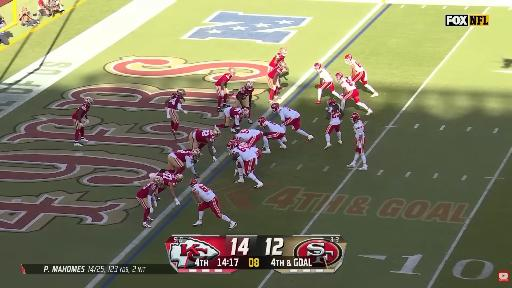Helmet: (153, 176, 164, 188), (227, 140, 237, 150), (271, 102, 280, 113), (212, 128, 221, 138), (350, 113, 359, 123), (191, 149, 200, 159), (257, 117, 267, 126), (335, 72, 343, 82), (84, 97, 93, 105), (278, 61, 287, 69), (241, 108, 249, 117), (327, 98, 336, 106), (245, 81, 253, 89), (175, 174, 183, 182), (345, 54, 352, 63), (280, 47, 287, 56), (228, 67, 235, 75), (314, 63, 321, 71), (190, 179, 198, 186), (177, 89, 185, 95), (236, 139, 240, 143), (234, 135, 237, 139)
Jersey: (232, 143, 257, 161), (192, 184, 215, 202), (157, 173, 177, 193), (137, 182, 157, 198), (326, 104, 340, 125), (194, 129, 215, 143), (278, 107, 299, 121), (236, 130, 262, 141), (72, 104, 90, 119), (263, 121, 285, 133), (168, 93, 184, 109), (225, 107, 242, 121), (269, 53, 285, 67), (215, 73, 232, 86), (173, 151, 193, 162), (354, 120, 365, 139), (340, 78, 356, 91), (318, 68, 332, 82), (350, 59, 364, 72), (238, 86, 253, 98), (268, 66, 282, 78)
Player: (190, 179, 237, 229), (227, 140, 263, 188), (271, 103, 313, 141), (336, 73, 372, 115), (345, 55, 378, 97), (136, 177, 163, 227), (150, 170, 183, 205), (347, 113, 367, 170), (314, 63, 341, 103), (72, 97, 93, 146), (166, 89, 187, 137), (189, 129, 220, 161), (324, 98, 343, 149), (167, 149, 200, 177), (258, 117, 286, 149), (215, 107, 249, 133), (215, 67, 235, 111), (268, 61, 287, 103), (235, 81, 253, 123), (234, 130, 268, 146), (268, 47, 287, 72)
